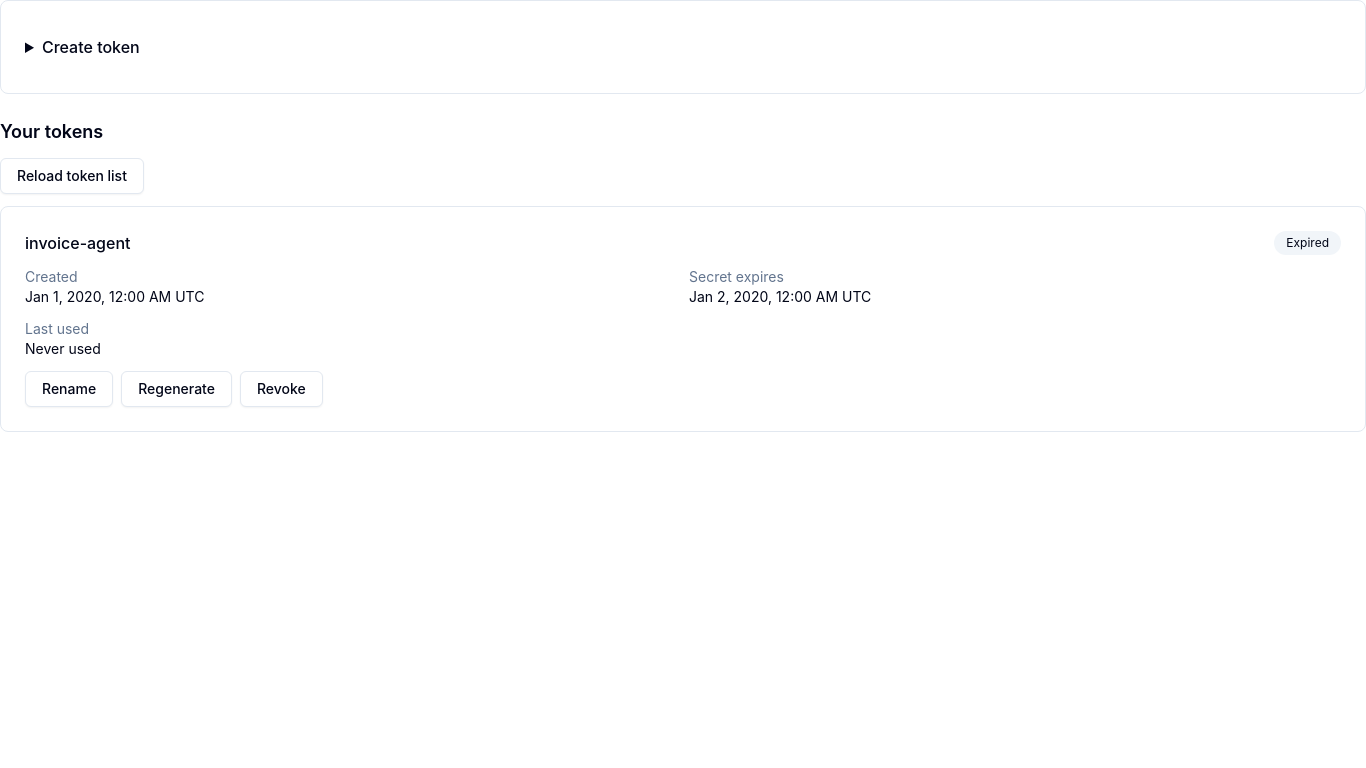
Test: delegation management interaction › Regenerate handles offline immediately without polling
Click the button "Regenerate".
click(176, 389)  # box [121,371,232,407]
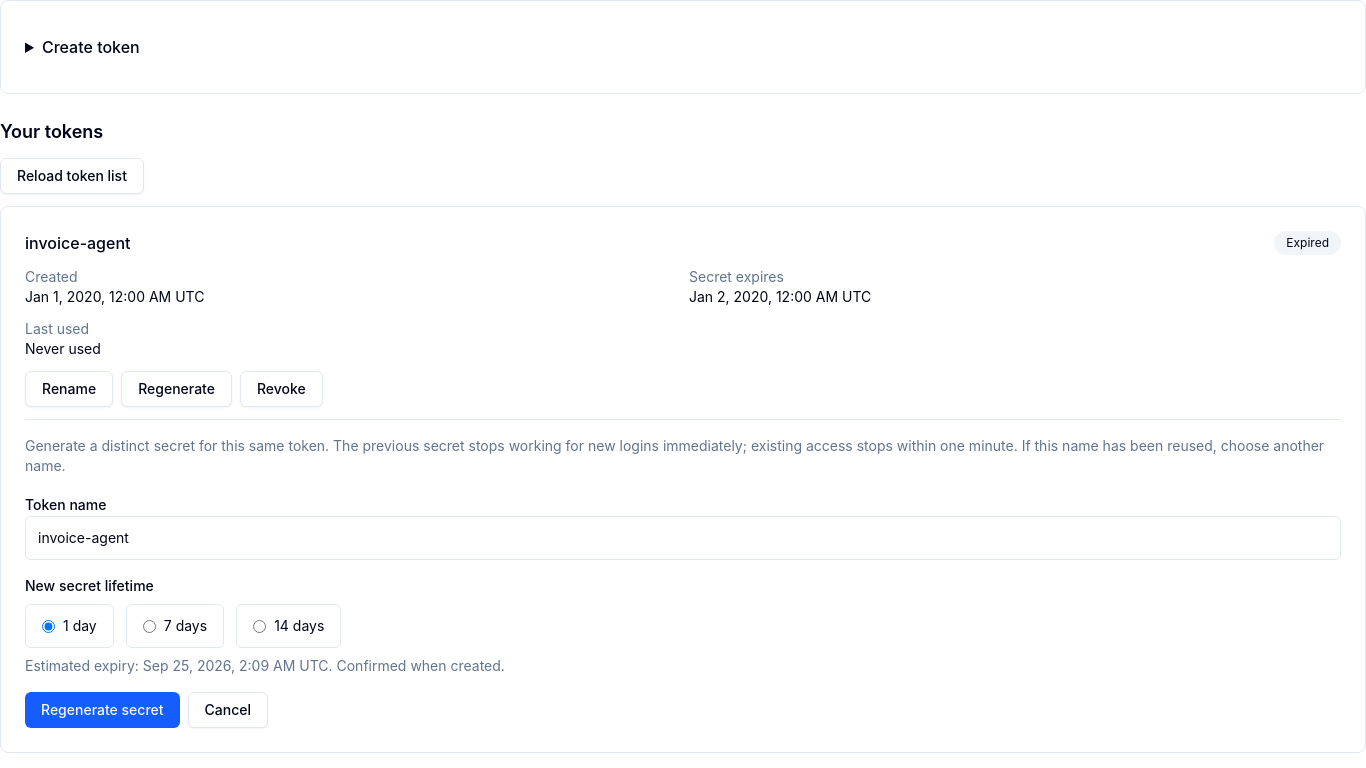
Submit the form, box [25,419,1341,728]
(page scrolled)
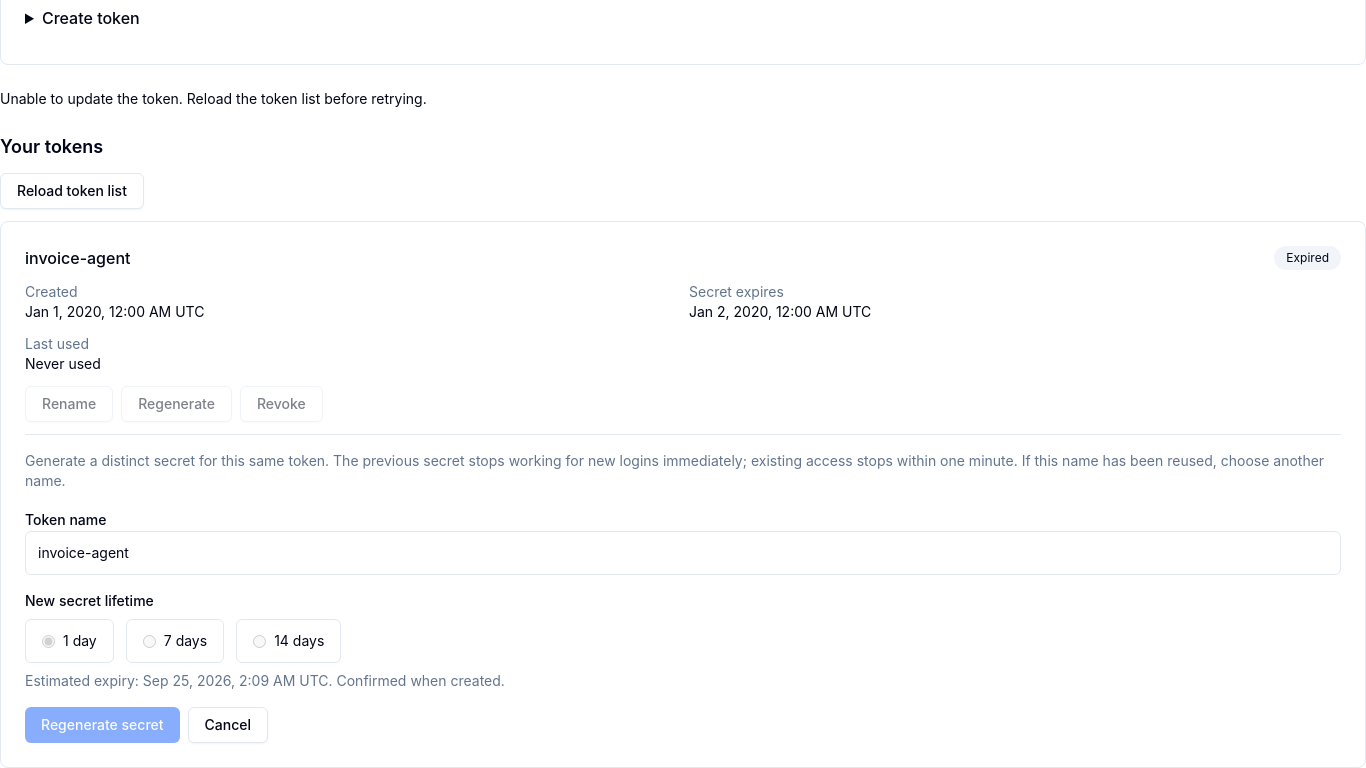
Expected: the form is shown, [25,434,1341,743]
Expected: the button "Regenerate secret" is disabled, [25,707,180,743]
